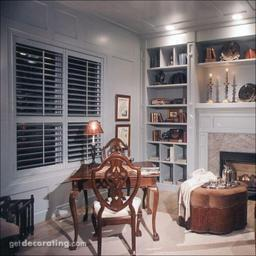Ventana: (9, 31, 101, 166)
